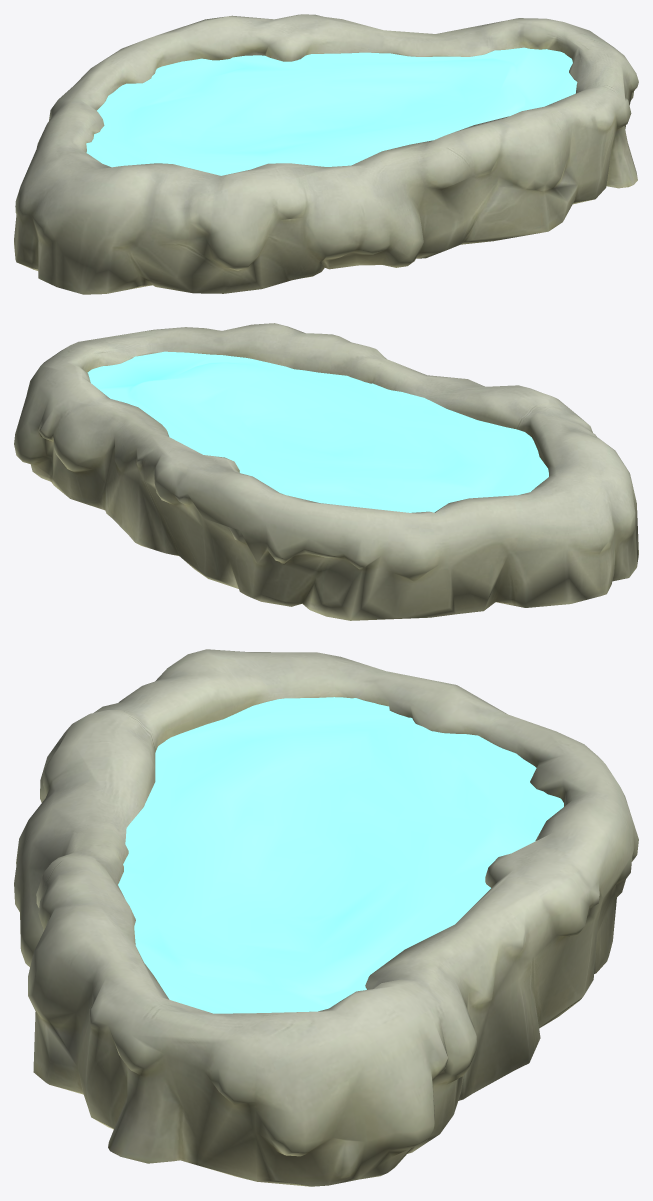
The model's file is sulfur_hotspringstep_a_lite.glb.
3 renders of one model, top to bottom at view 1: azimuth 30°, elevation 25°; view 2: azimuth 150°, elevation 25°; view 3: azimuth 270°, elevation 25°, orthographic. The views are drawn at different scales.
Visible parts, largest first — view 1: SM_SULF_STS_HotSpringStep_01A, SM_SULF_STS_HotSpringStep_01A_water; view 2: SM_SULF_STS_HotSpringStep_01A, SM_SULF_STS_HotSpringStep_01A_water; view 3: SM_SULF_STS_HotSpringStep_01A, SM_SULF_STS_HotSpringStep_01A_water.
Boxes of the visible parts, box(x1,y1,x2,y2) form: SM_SULF_STS_HotSpringStep_01A: box(14, 14, 638, 294); SM_SULF_STS_HotSpringStep_01A_water: box(86, 47, 577, 175); SM_SULF_STS_HotSpringStep_01A: box(14, 323, 638, 620); SM_SULF_STS_HotSpringStep_01A_water: box(87, 351, 548, 512); SM_SULF_STS_HotSpringStep_01A: box(14, 649, 638, 1186); SM_SULF_STS_HotSpringStep_01A_water: box(118, 697, 563, 1013).
Size of the model in its own units: 16.5 by 3.03 by 10.12.
Materials: 2 (1 with a texture image).
